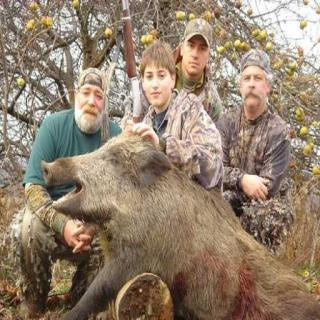Pig: (26, 104, 320, 320)
